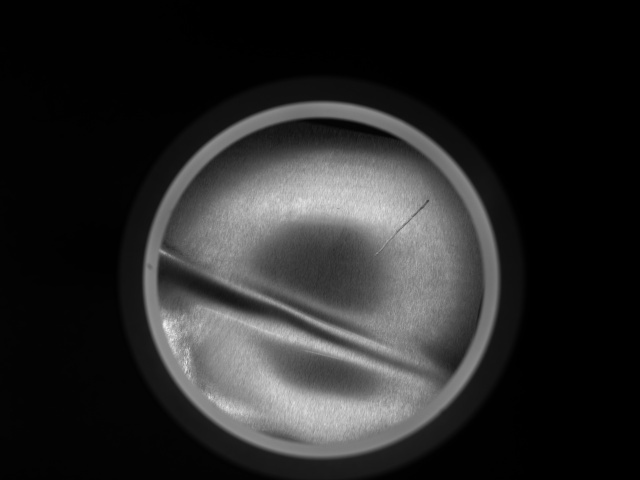ca_shang: (371, 194, 437, 258)
zhe_zhou: (208, 143, 441, 411)
